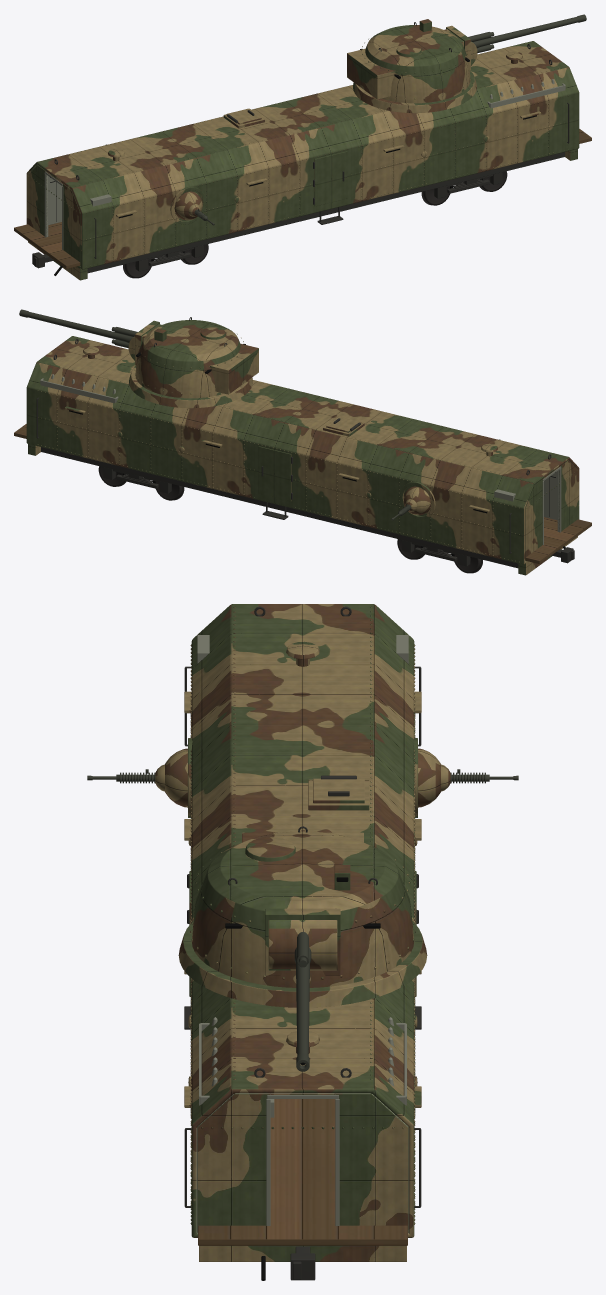
File: gun_car_a.glb
3 renders of one model, top to bottom at view 1: azimuth 30°, elevation 25°; view 2: azimuth 150°, elevation 25°; view 3: azimuth 270°, elevation 25°, orthographic. The views are drawn at different scales.
Visible parts, largest first — view 1: HullShell, TurretBody, Interior, HullDetails, Underframe, Rivets, Bogies, Barrel, MG_R_Housing; view 2: HullShell, TurretBody, Interior, HullDetails, Underframe, Rivets, Bogies, Barrel, MG_L_Housing; view 3: HullShell, Interior, TurretBody, HullDetails, Underframe, Mantlet, Rivets, Barrel, MG_L_Housing, MG_R_Housing.
Part boxes in pixels (x1,y1,x2,y2): HullShell: [26, 41, 579, 269]; TurretBody: [347, 19, 476, 113]; Interior: [14, 79, 591, 268]; HullDetails: [54, 44, 569, 258]; Underframe: [28, 149, 577, 280]; Rivets: [28, 43, 568, 267]; Bogies: [135, 172, 502, 271]; Barrel: [468, 14, 586, 53]; MG_R_Housing: [174, 191, 202, 220]; HullShell: [26, 336, 579, 564]; TurretBody: [129, 317, 258, 408]; Interior: [14, 374, 591, 563]; HullDetails: [36, 339, 551, 553]; Underframe: [28, 444, 577, 575]; Rivets: [37, 338, 577, 562]; Bogies: [103, 467, 470, 566]; Barrel: [19, 309, 137, 348]; MG_L_Housing: [403, 486, 431, 515]; HullShell: [191, 604, 414, 1237]; Interior: [197, 635, 408, 1245]; TurretBody: [178, 826, 427, 1007]; HullDetails: [184, 606, 421, 1207]; Underframe: [199, 1245, 406, 1280]; Mantlet: [268, 920, 337, 970]; Rivets: [190, 606, 415, 1224]; Barrel: [294, 932, 311, 1071]; MG_L_Housing: [418, 748, 440, 807]; MG_R_Housing: [165, 748, 187, 807].
Size of the model in its own units: 17.72 by 5.07 by 6.
14 materials, 3 textured.
